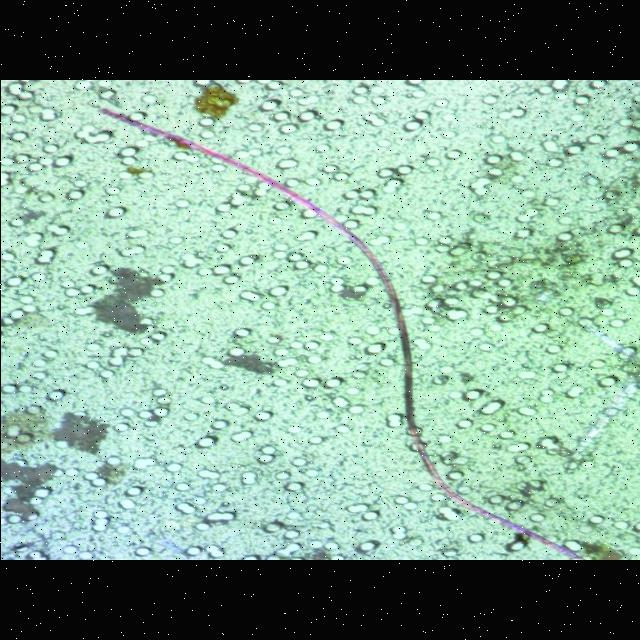Fibre: (90, 106, 612, 560)
